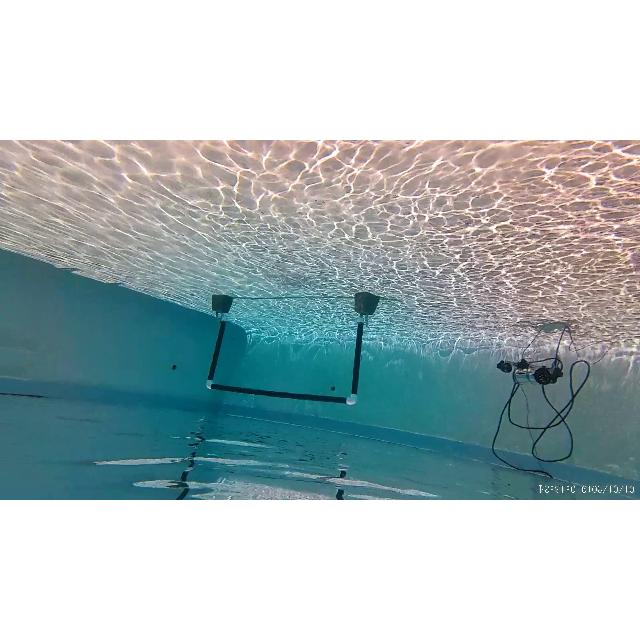prequal gate: (206, 312, 364, 406)
prequal gate leg l: (345, 288, 381, 406)
prequal gate leg r: (202, 292, 232, 392)
